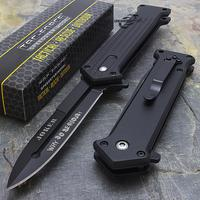knife: (5, 3, 161, 193)
